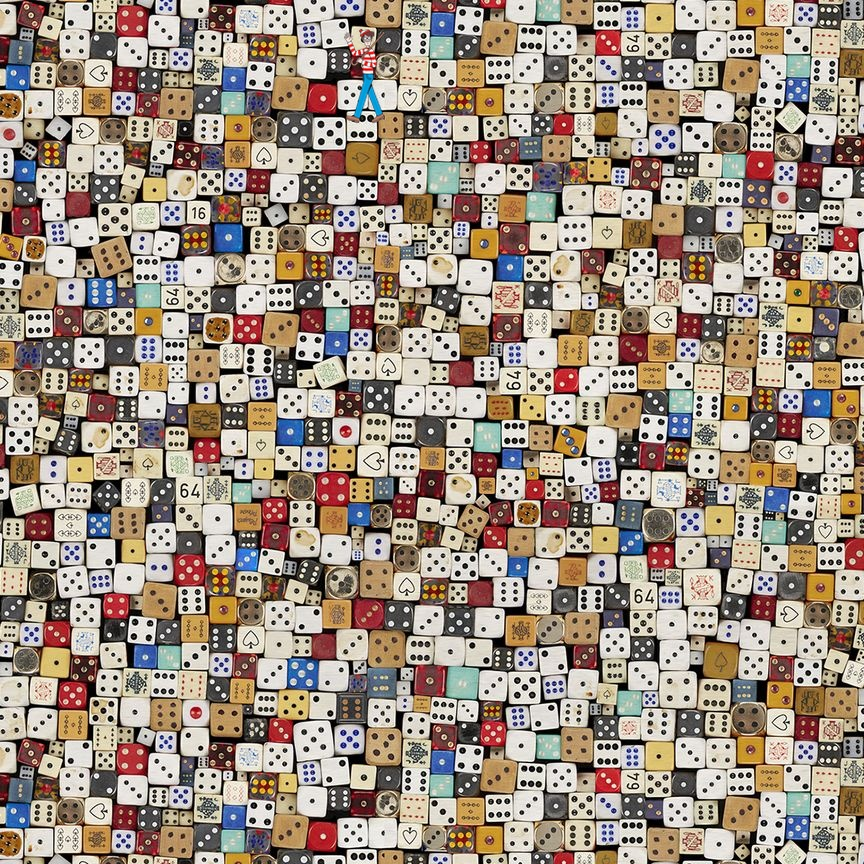waldo: (344, 29, 385, 123)
